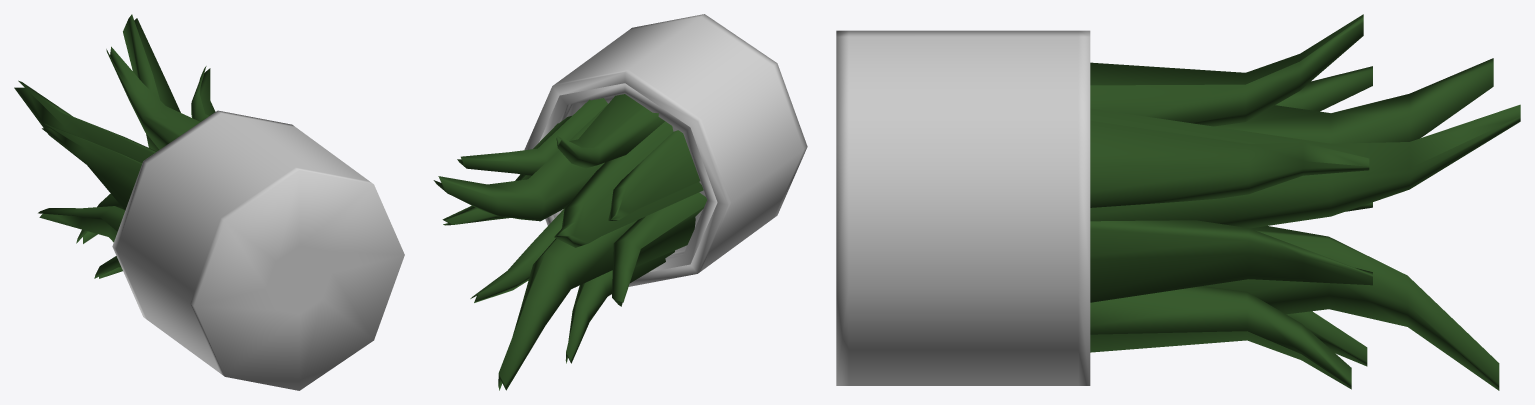
File: pot.obj
3 renders of one model, left to right at view 1: azimuth 30°, elevation 25°; view 2: azimuth 150°, elevation 25°; view 3: azimuth 270°, elevation 25°, orthographic. The views are drawn at different scales.
Parts seen in each view (by area): view 1: pot; view 2: pot; view 3: pot.
Boxes of the visible parts, x1,y1,x2,y2 form: pot: [14, 14, 404, 390]; pot: [433, 14, 807, 390]; pot: [836, 14, 1520, 390].
Size of the model in its own units: 0.2559 by 0.2709 by 0.463.
